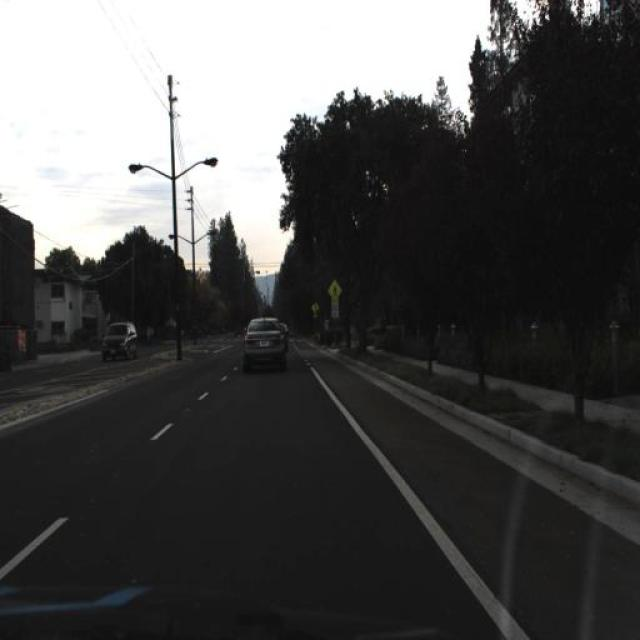car: (238, 310, 292, 380), (96, 316, 140, 366), (99, 319, 140, 365)
